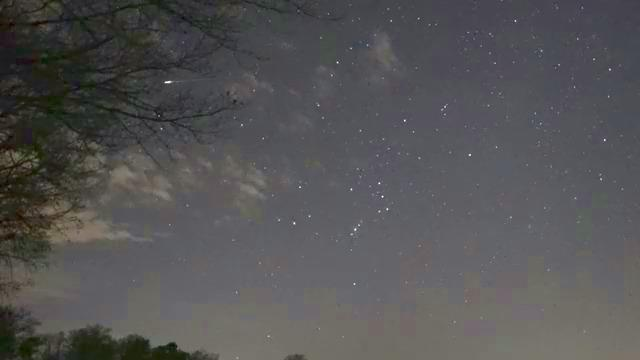meteorite: (159, 72, 246, 90)
